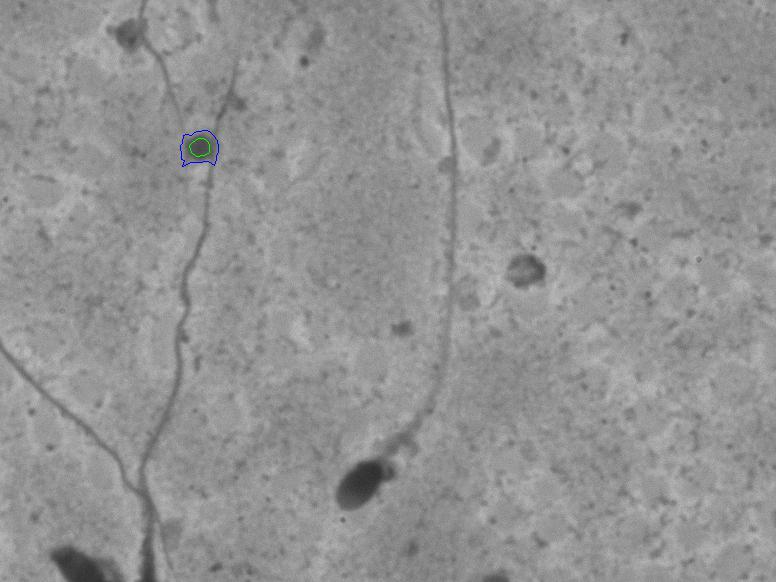Normal: (300, 1, 469, 534)
